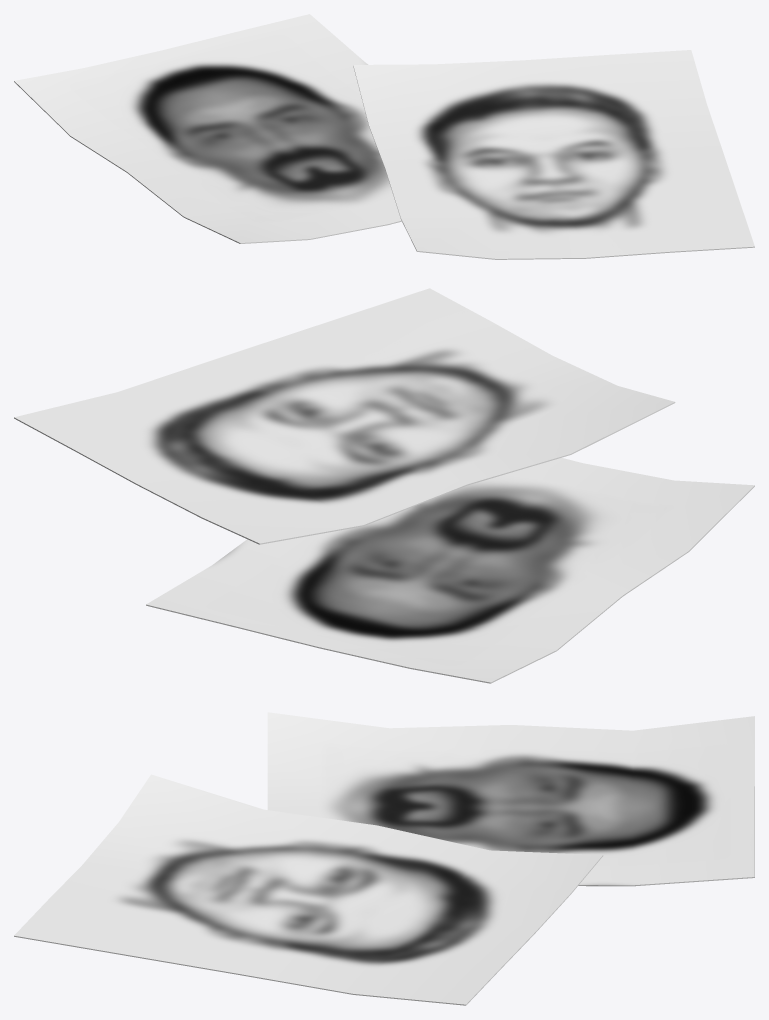
The model's file is Photos.FBX.
3 renders of one model, top to bottom at view 1: azimuth 30°, elevation 25°; view 2: azimuth 150°, elevation 25°; view 3: azimuth 270°, elevation 25°, orthographic. The views are drawn at different scales.
Visible parts, largest first — view 1: photo 2, photo 1; view 2: photo 2, photo 1; view 3: photo 2, photo 1.
Boxes of the visible parts, x1=… form: photo 2: x1=353, y1=50, x2=754, y2=259; photo 1: x1=14, y1=14, x2=401, y2=243; photo 2: x1=14, y1=288, x2=675, y2=544; photo 1: x1=146, y1=457, x2=754, y2=683; photo 2: x1=14, y1=774, x2=603, y2=1005; photo 1: x1=267, y1=712, x2=754, y2=886.
Bounding box in the file's own units: 18 × 0.6365 × 19.77.
Materials: 1 (1 with a texture image).
